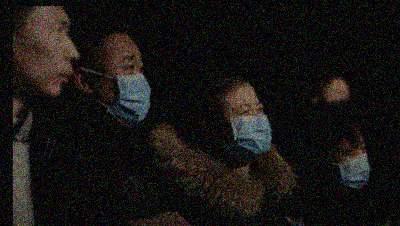with_mask: (91, 53, 151, 126), (224, 99, 272, 154), (332, 145, 369, 188)
without_mask: (18, 18, 80, 96)
